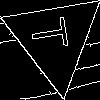T: (29, 14, 77, 52)
